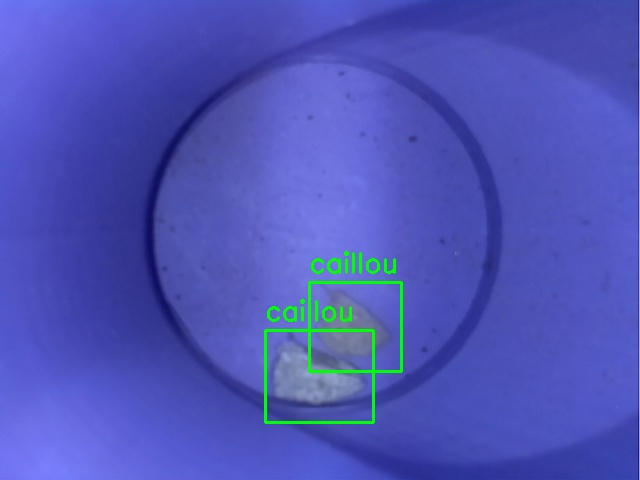caillou: (265, 330, 373, 422), (309, 282, 401, 371)
